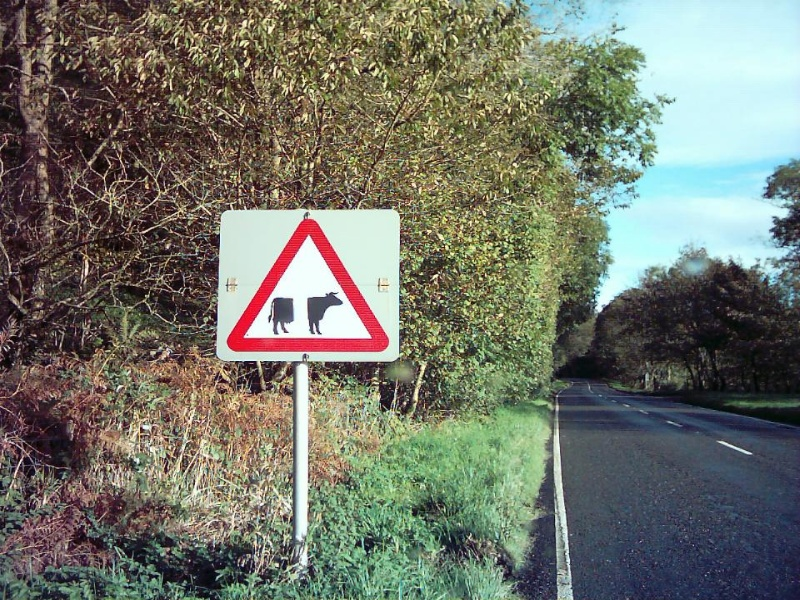animal_ahead: (227, 212, 392, 357)
